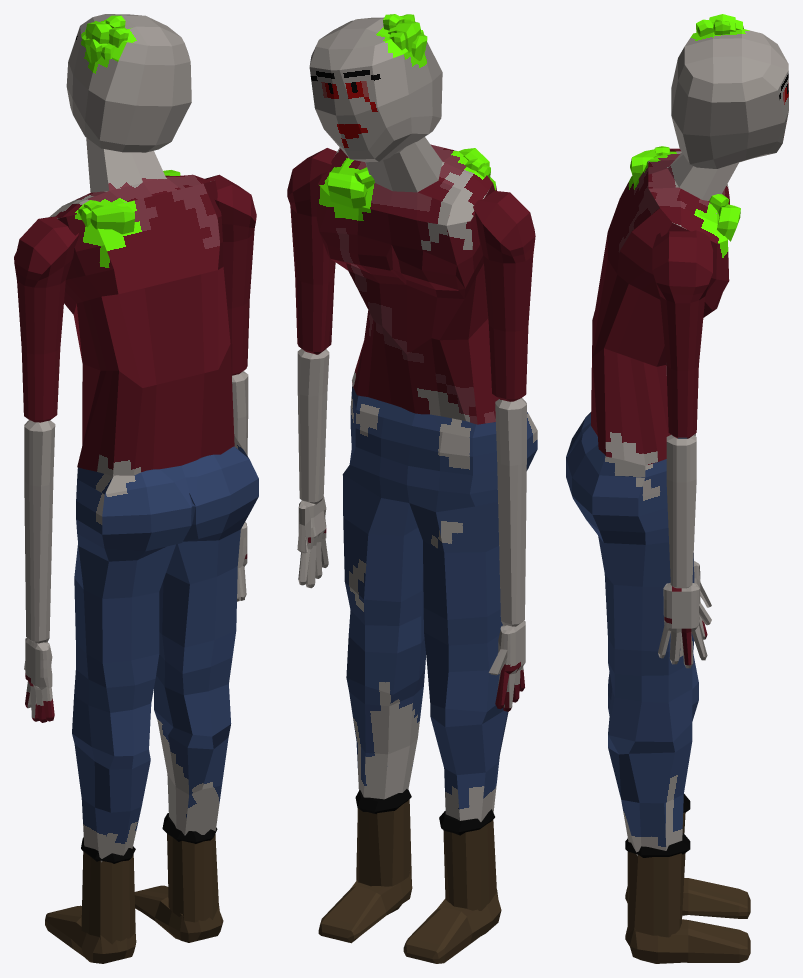
The model's file is husk_ver_3.gltf.
The picture shows the model from 3 angles, left to right: view 1: azimuth 30°, elevation 25°; view 2: azimuth 150°, elevation 25°; view 3: azimuth 270°, elevation 25°; orthographic projection. The views are drawn at different scales.
Parts seen in each view (by area): view 1: Torso + Neck, R Pants, L Pants, hips, Head, R Bicep, R Forearm, L Bicep, R Boot, L Boot, R Foot, L Foot (+6 smaller); view 2: Torso + Neck, R Pants, L Pants, Head, hips, R Bicep, L Bicep, R Forearm, L Forearm, L Boot, R Boot, R Foot (+8 smaller); view 3: Torso + Neck, L Pants, Head, L Bicep, hips, L Boot, L Forearm, L Foot, L Hand, R Foot, chest, head (+3 smaller).
Part boxes in pixels (x1,y1,x2,y2): Torso + Neck: (49,138,234,475); R Pants: (72,544,175,862); L Pants: (154,529,240,835); hips: (76,436,258,561); Head: (66,14,191,152); R Bicep: (14,216,78,422); R Forearm: (24,420,55,643); L Bicep: (205,174,256,375); R Boot: (81,851,135,944); L Boot: (167,834,218,922); R Foot: (45,905,136,963); L Foot: (134,885,223,942); Torso + Neck: (316,137,498,424); R Pants: (409,502,508,821); L Pants: (342,474,425,799); Head: (309,17,442,162); hips: (343,384,537,512); R Bicep: (473,190,535,401); L Bicep: (287,148,336,354); R Forearm: (495,398,526,626); L Forearm: (297,348,329,504); L Boot: (356,799,411,886); R Boot: (443,820,496,910); R Foot: (403,890,501,963); Torso + Neck: (591,149,738,465); L Pants: (598,535,694,855); Head: (671,29,788,168); L Bicep: (652,230,712,438); hips: (566,412,668,544); L Boot: (627,851,685,937); L Forearm: (666,434,696,588); L Foot: (625,919,750,963); L Hand: (658,583,711,668); R Foot: (625,878,750,918); chest: (709,194,740,241); head: (696,14,743,36).
Bounding box in the file's own units: 0.1938 × 0.7296 × 0.1612.
12 materials, 12 textured.
